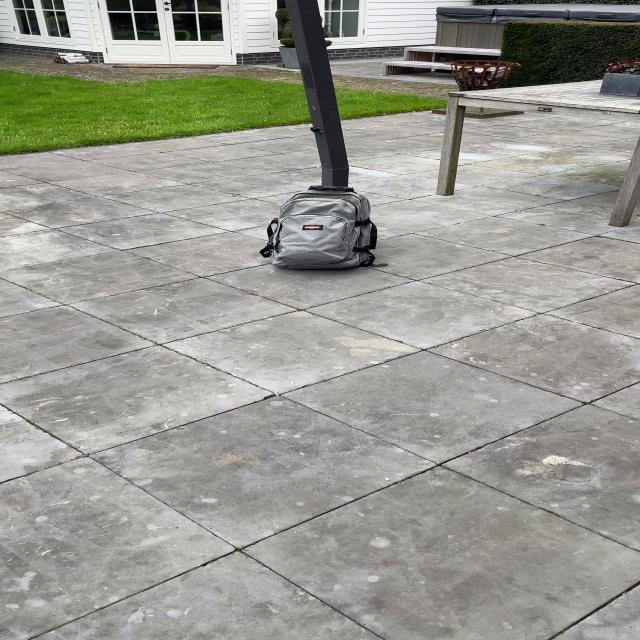backpack: (259, 180, 381, 274)
